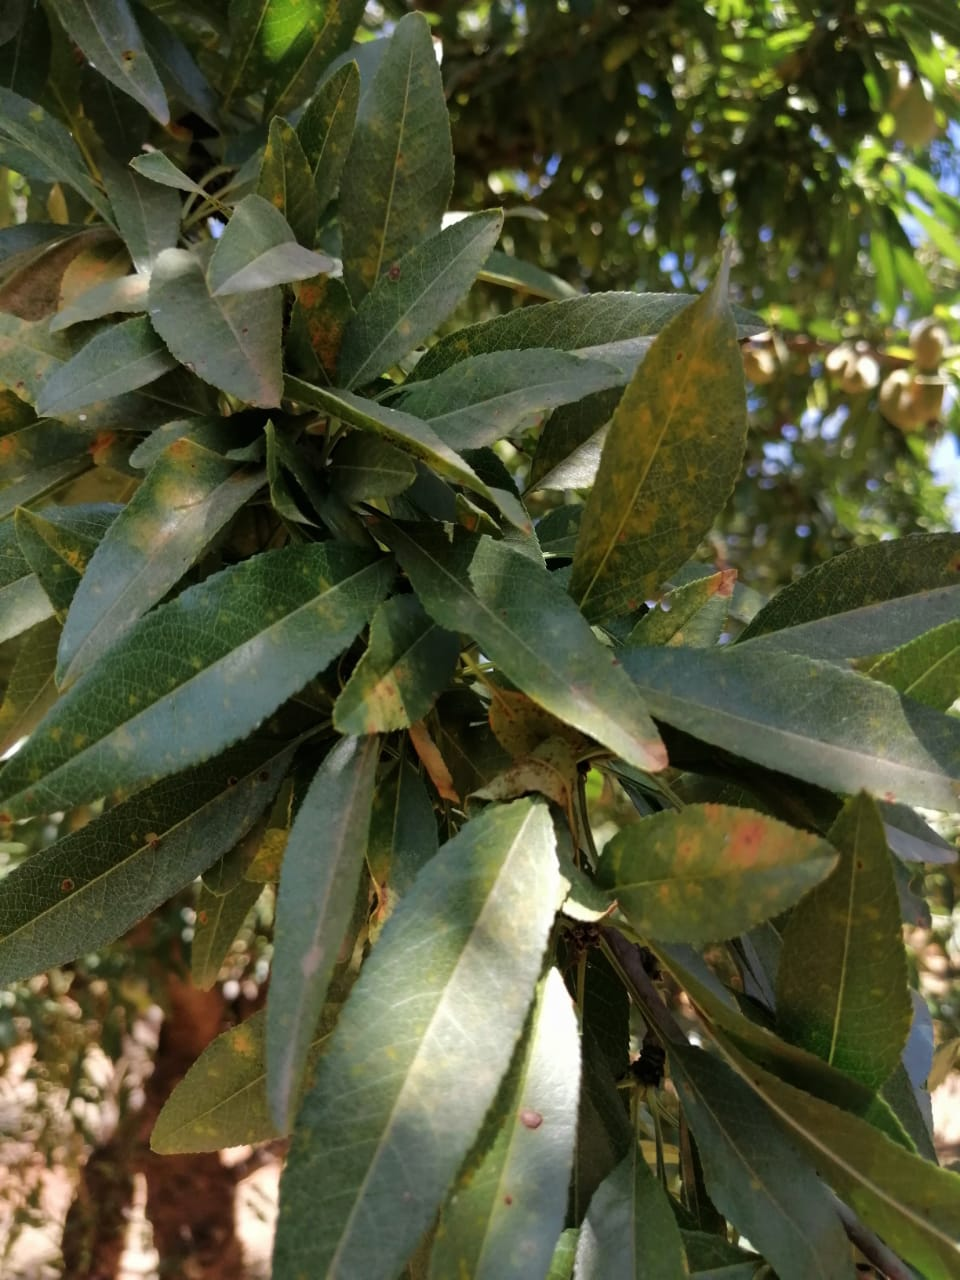rouille: (1, 714, 325, 987), (569, 260, 751, 619), (430, 967, 583, 1280), (332, 204, 503, 400), (52, 1, 176, 125)
